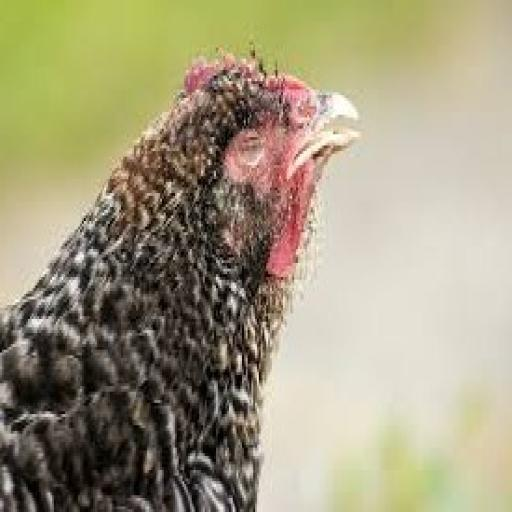disease: (223, 85, 288, 210)
